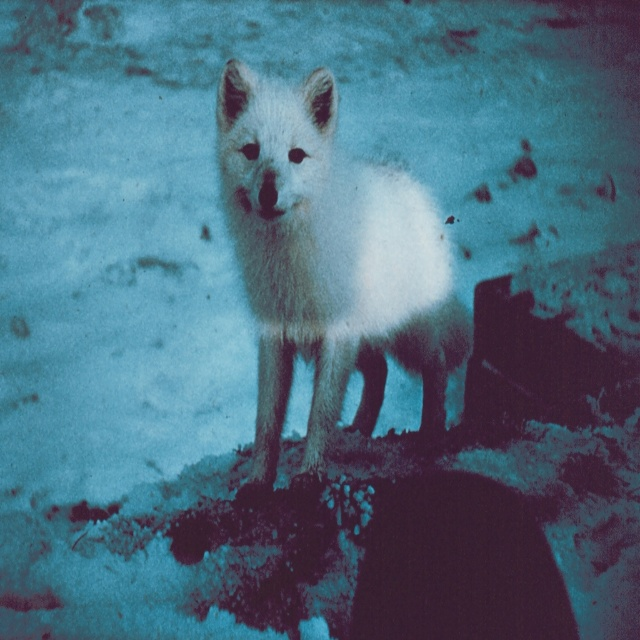Fox: (214, 53, 473, 499)
